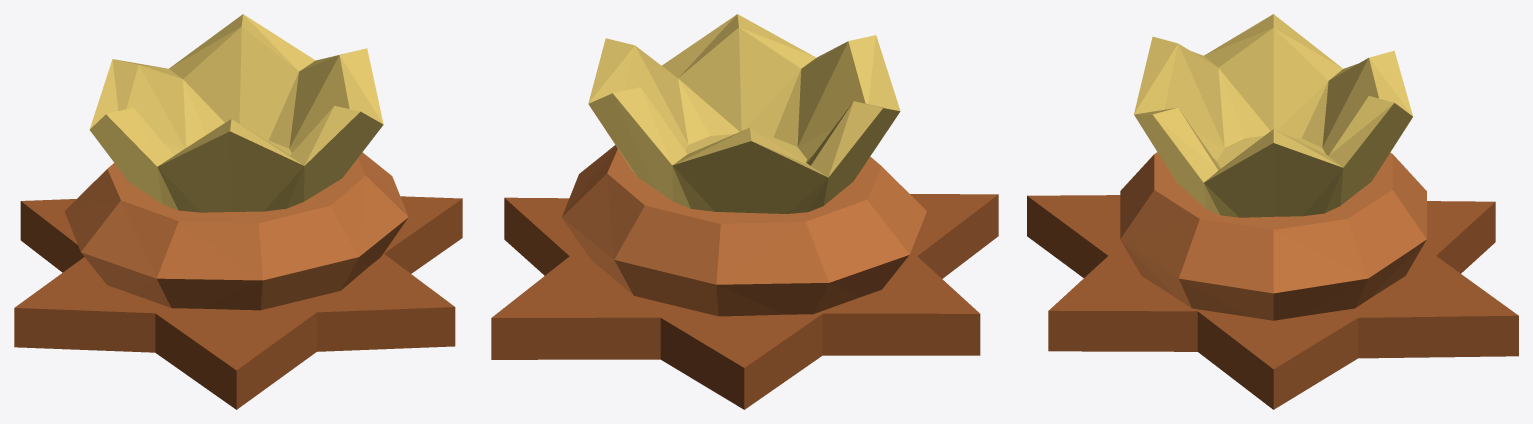
Rendered from gaumaker_a.obj.
3 views of the same model, side by side, from view 1: azimuth 30°, elevation 25°; view 2: azimuth 150°, elevation 25°; view 3: azimuth 270°, elevation 25° (orthographic). The views are drawn at different scales.
Parts seen in each view (by area): view 1: gaumaker_a; view 2: gaumaker_a; view 3: gaumaker_a.
Boxes of the visible parts, x1,y1,x2,y2 form: gaumaker_a: (14, 14, 462, 409); gaumaker_a: (491, 14, 998, 409); gaumaker_a: (1027, 14, 1518, 409).
Bounding box in the file's own units: 0.8925 × 0.4198 × 0.8238.
